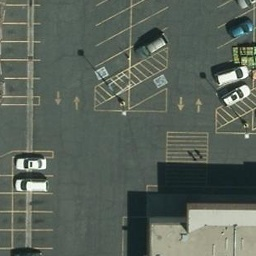car: (211, 63, 250, 88), (136, 33, 169, 62), (220, 83, 251, 105), (16, 151, 47, 170), (16, 174, 47, 193), (233, 18, 254, 34)
